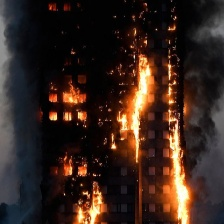fire: (108, 55, 155, 164), (166, 61, 194, 222), (45, 83, 88, 124), (70, 181, 109, 224), (56, 150, 92, 179)
smoke: (1, 1, 55, 217), (176, 1, 224, 177)
